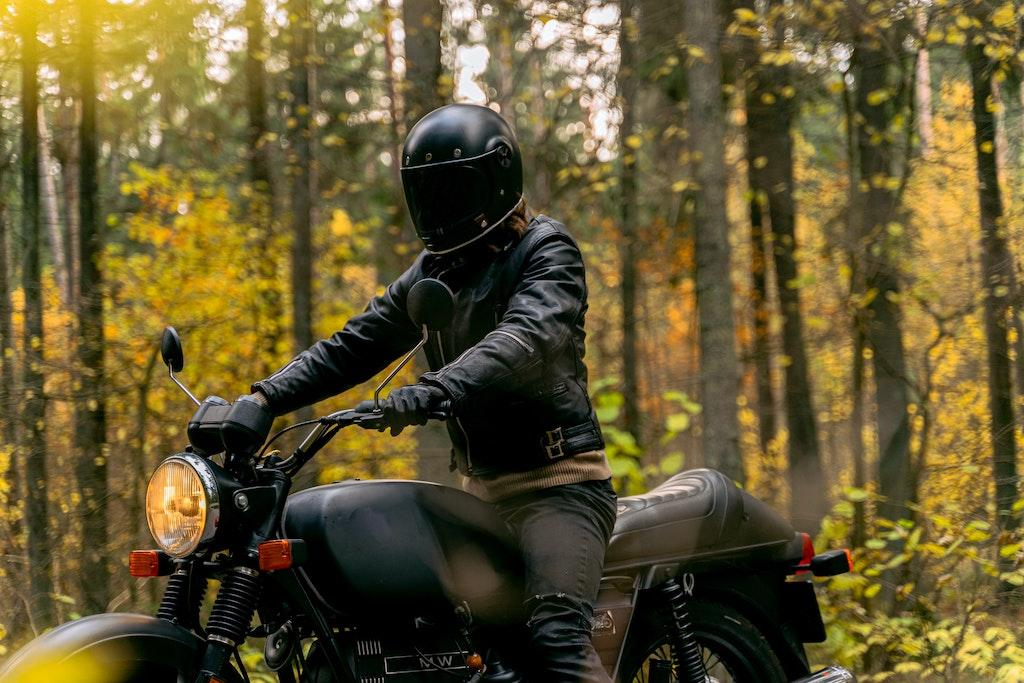helmet: (399, 102, 525, 258)
